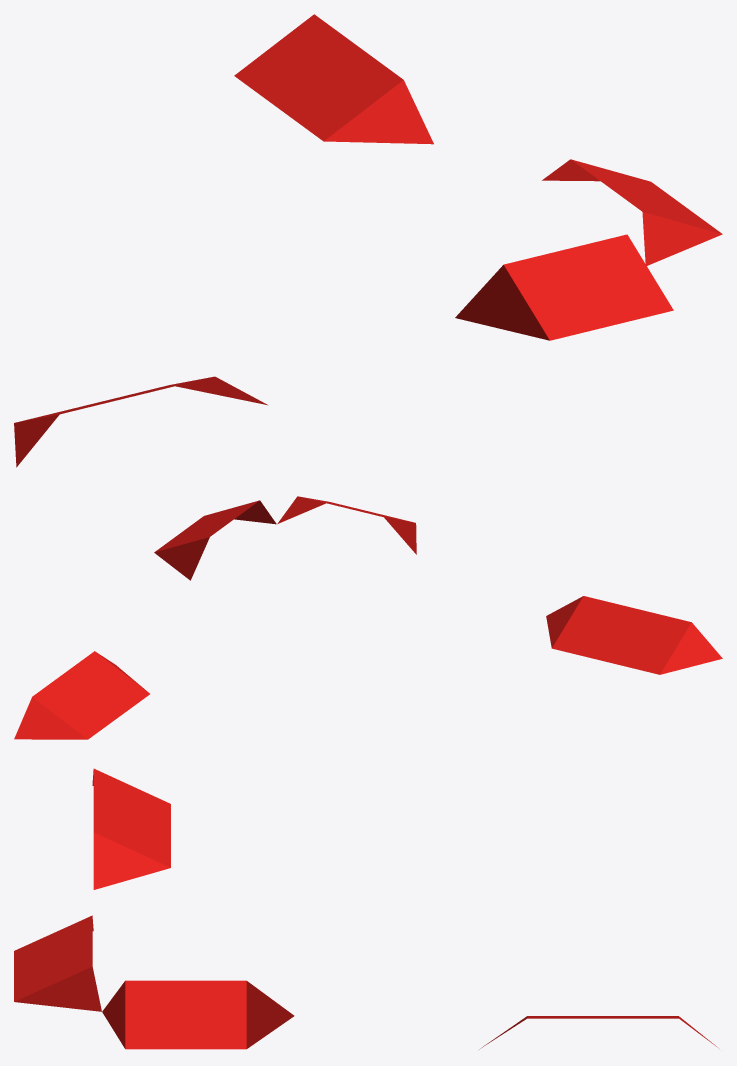
The model's file is FarmBlockOut_MeshCollider.fbx.
The picture shows the model from 3 angles, top to bottom: view 1: azimuth 30°, elevation 25°; view 2: azimuth 150°, elevation 25°; view 3: azimuth 270°, elevation 25°; orthographic projection. The views are drawn at different scales.
Visible parts, largest first — view 1: Stairs_TankDown.004, Stairs_TankUp.003, Stairs_TankUp.004, Stairs_TankDown.003; view 2: Stairs_TankDown.003, Stairs_TankDown.004, Stairs_TankUp.004, Stairs_TankUp.003; view 3: Stairs_TankUp.004, Stairs_TankDown.003, Stairs_TankUp.003, Stairs_TankDown.004.
Boxes of the visible parts, left/top/right/bottom form: Stairs_TankDown.004: left=234, top=14, right=433, bottom=144; Stairs_TankUp.003: left=455, top=234, right=673, bottom=340; Stairs_TankUp.004: left=542, top=159, right=722, bottom=265; Stairs_TankDown.003: left=14, top=376, right=267, bottom=467; Stairs_TankDown.003: left=546, top=596, right=722, bottom=674; Stairs_TankDown.004: left=14, top=651, right=149, bottom=739; Stairs_TankUp.004: left=154, top=500, right=276, bottom=580; Stairs_TankUp.003: left=277, top=496, right=416, bottom=554; Stairs_TankUp.004: left=102, top=980, right=294, bottom=1049; Stairs_TankDown.003: left=92, top=768, right=170, bottom=889; Stairs_TankUp.003: left=14, top=915, right=101, bottom=1011; Stairs_TankDown.004: left=479, top=1016, right=717, bottom=1049.
Size of what is drawn, in the model's own units: 1803 by 200 by 1805.
